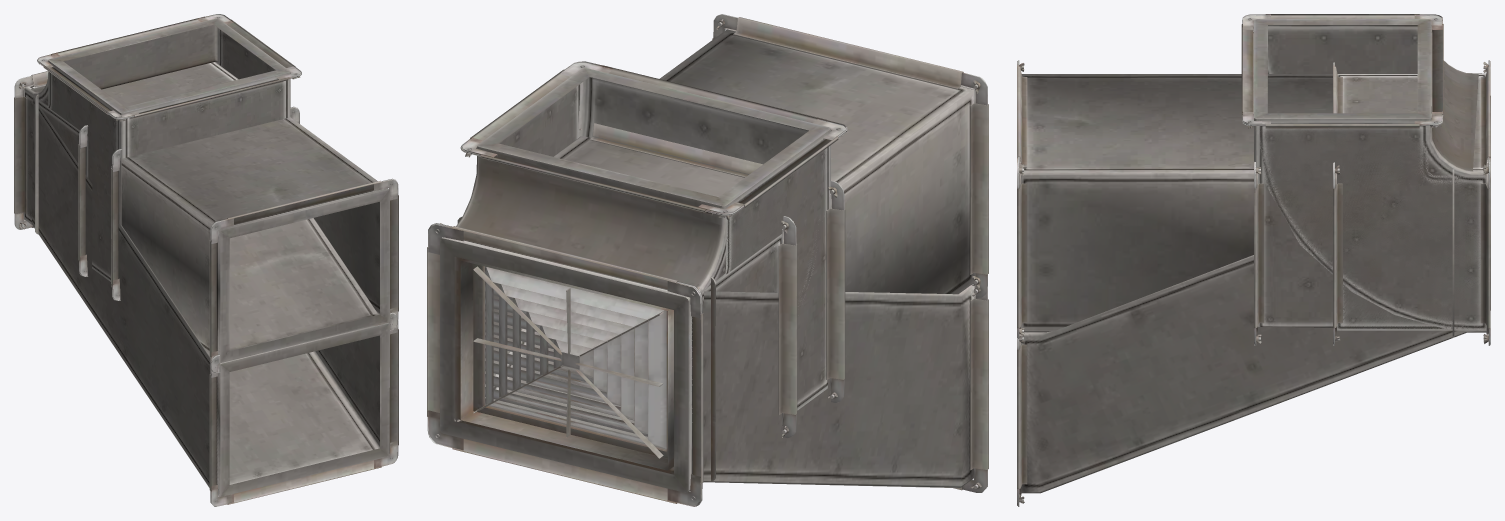
File: modular_airduct_rectangular_01.glb
3 renders of one model, left to right at view 1: azimuth 30°, elevation 25°; view 2: azimuth 150°, elevation 25°; view 3: azimuth 270°, elevation 25°, orthographic. The views are drawn at different scales.
Visible parts, largest first — view 1: transition_double_01, double_01, corner_01, half_01, bend_01, single_01, connector_01; view 2: double_01, transition_double_01, corner_01, bend_01, vent_02, half_01, single_01, vent_01, connector_01; view 3: double_01, transition_double_01, bend_01, corner_01, half_01, single_01, connector_01.
Boxes of the visible parts, x1,y1,x2,y2 form: transition_double_01: (14,75,398,506); double_01: (14,62,398,372); corner_01: (14,14,300,281); half_01: (15,62,237,276); bend_01: (15,14,301,227); single_01: (15,85,299,300); connector_01: (15,79,38,234); double_01: (427,14,988,506); transition_double_01: (427,223,988,505); corner_01: (427,61,846,505); bend_01: (427,61,847,506); vent_02: (454,256,673,474); half_01: (429,216,797,489); single_01: (428,123,845,500); vent_01: (485,266,666,449); connector_01: (428,217,715,492); double_01: (1017,60,1490,343); transition_double_01: (1017,60,1490,506); bend_01: (1241,14,1490,344); corner_01: (1241,14,1490,344); half_01: (1333,62,1490,345); single_01: (1254,62,1490,345); connector_01: (1452,67,1490,345).
Bounding box in the file's own units: 0.6631 × 1.08 × 1.2.
Materials: 2 (2 with a texture image).
